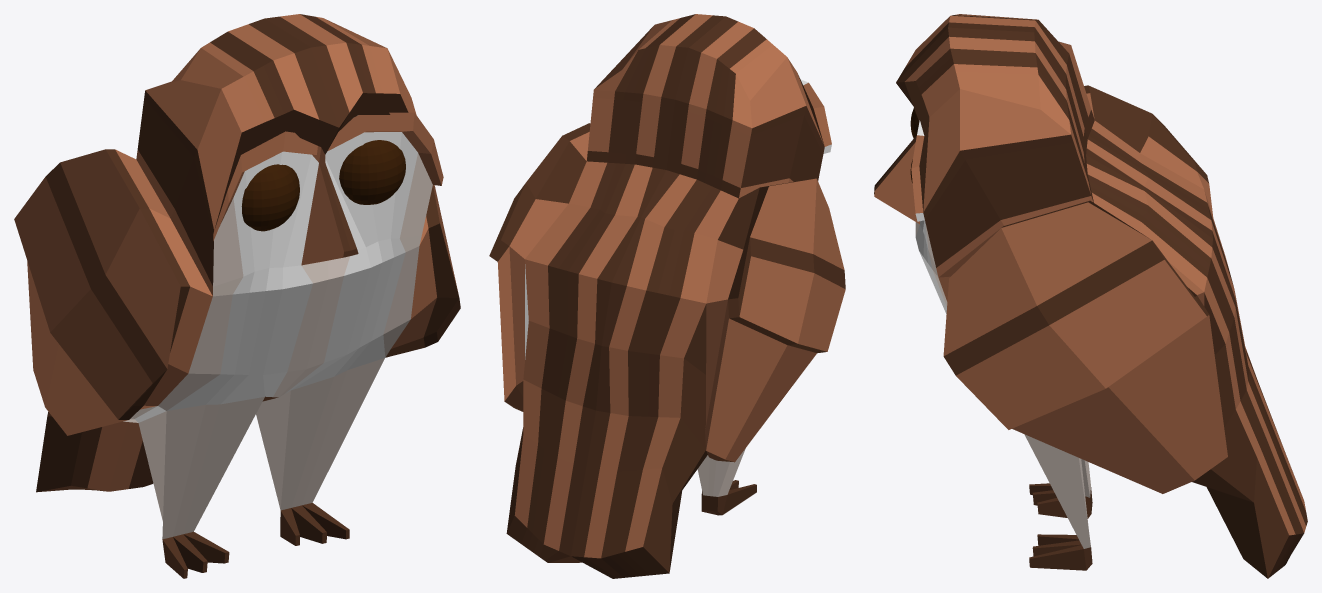
The model's file is Owl.fbx.
3 views of the same model, side by side, from view 1: azimuth 30°, elevation 25°; view 2: azimuth 150°, elevation 25°; view 3: azimuth 270°, elevation 25° (orthographic). The views are drawn at different scales.
Visible parts, largest first — view 1: Cube, Sphère.001, Sphère; view 2: Cube; view 3: Cube.
Boxes of the visible parts, bbox=[...] form: Cube: bbox=[14, 14, 460, 578]; Sphère.001: bbox=[339, 140, 405, 204]; Sphère: bbox=[241, 164, 299, 231]; Cube: bbox=[489, 14, 845, 578]; Cube: bbox=[874, 14, 1307, 578].
Size of the model in its own units: 307 by 471 by 356.
